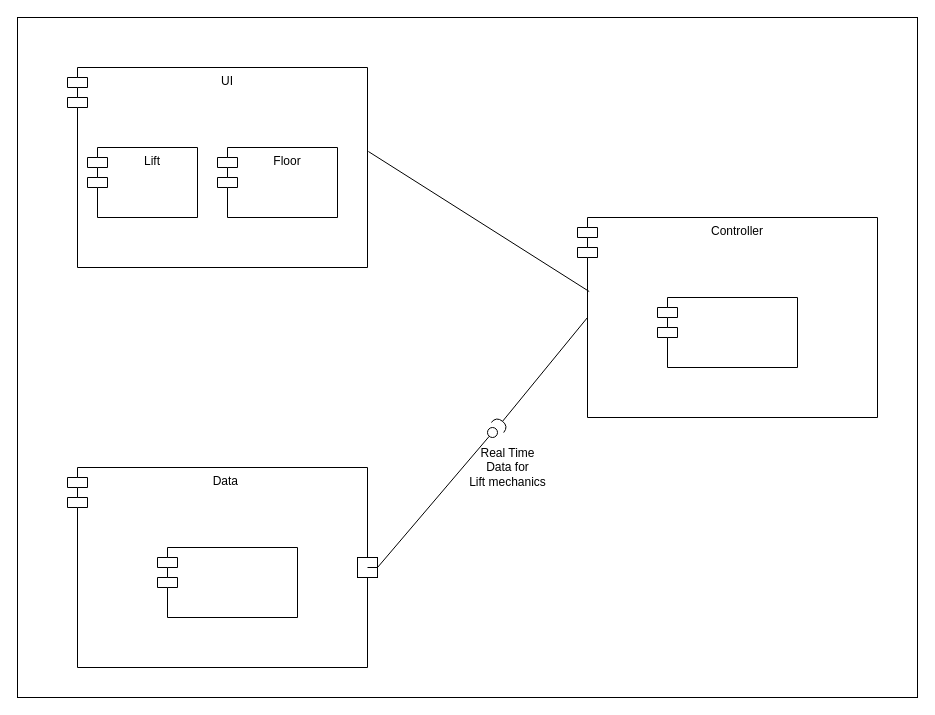
The diagram is 935 pixels wide and 715 high, and some of its shapes have lost their labels. Each missing label, with the centre of its shape:
Event Listeners Scheduler: the point at 727,332
Lift Data Floor Data: the point at 227,582
